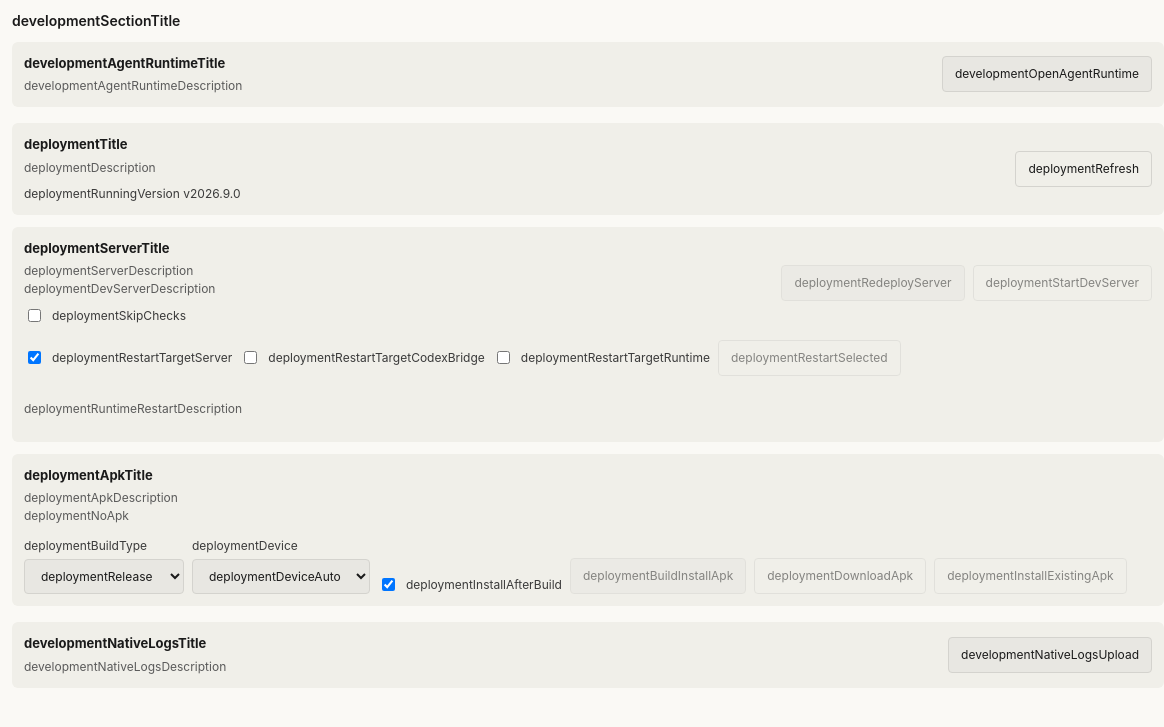
Test: DevelopmentSettings › explicitly includes runtime in services-restart and warns before sending
Expected: the text "deploymentRuntimeRestartWarning" is not shown
Click the checkbox labelled "deploymentRestartTargetRuntime" at (503, 358), box left=497, top=351, right=510, bottom=364
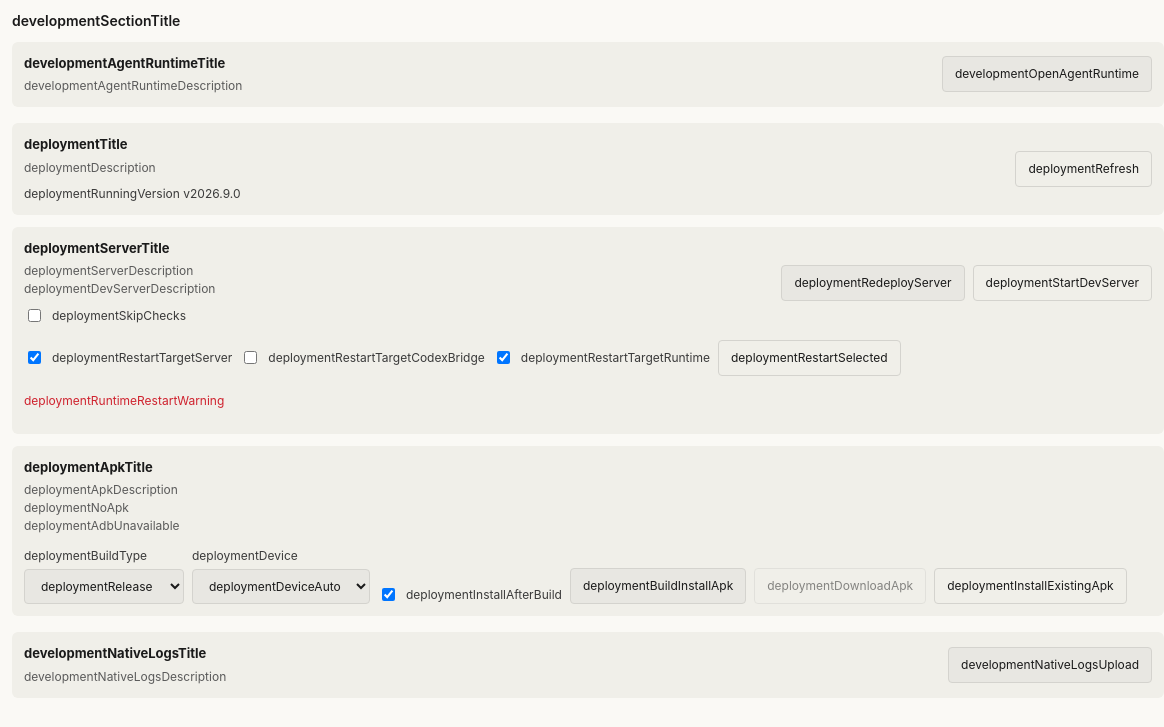
Expected: the message reads "deploymentRuntimeRestartWarning", left=24, top=392, right=224, bottom=408
Click the checkbox labelled "deploymentRestartTargetServer" at (34, 358), box left=28, top=351, right=41, bottom=364
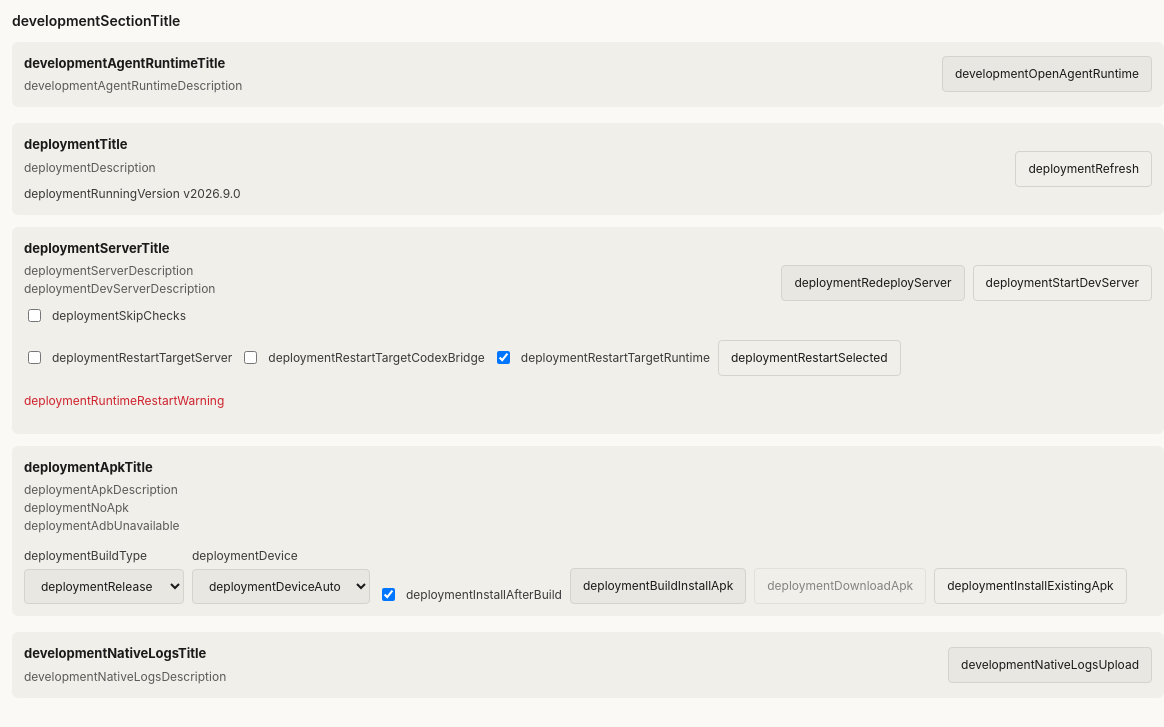
Expected: the button "deploymentRestartSelected" is enabled
Click the button "deploymentRestartSelected" at (809, 358), box left=718, top=340, right=901, bottom=376
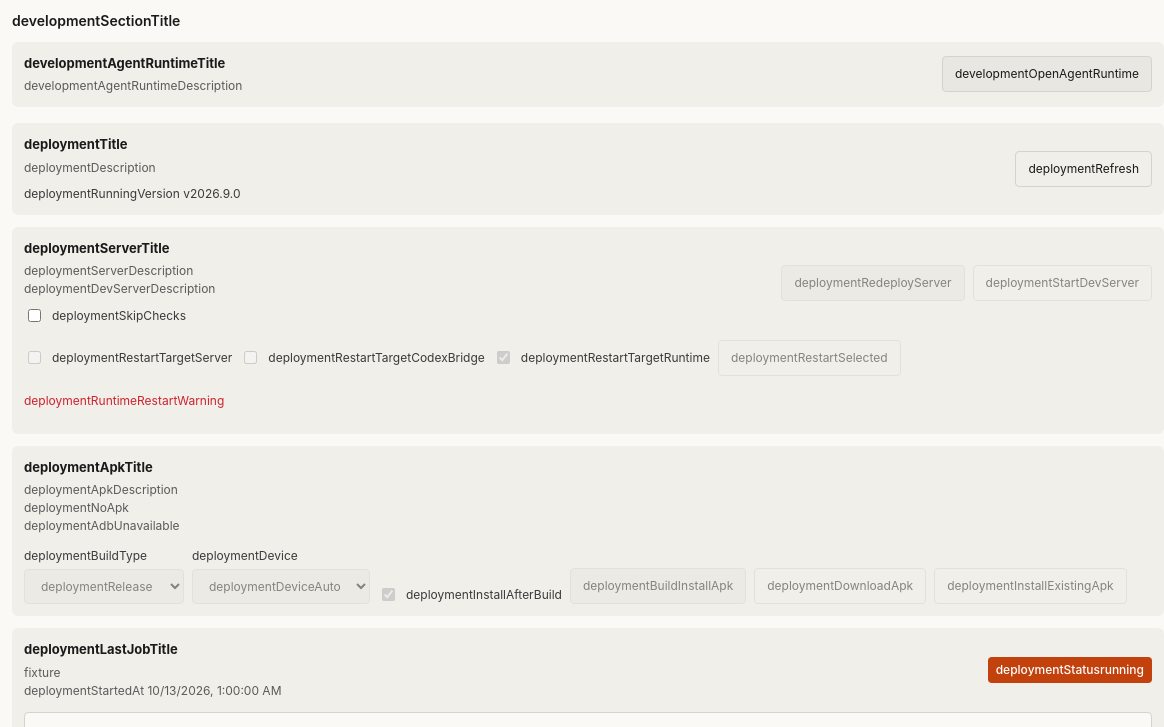
Expected: the checkbox labelled "deploymentRestartTargetRuntime" is disabled, left=497, top=351, right=510, bottom=364
